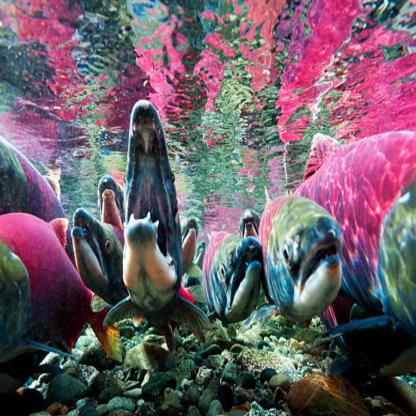sockeye: (0, 134, 96, 336), (308, 123, 416, 296), (113, 96, 188, 323), (255, 188, 338, 320), (69, 185, 134, 292), (193, 218, 256, 327)
sockeye-group: (0, 117, 416, 321)
